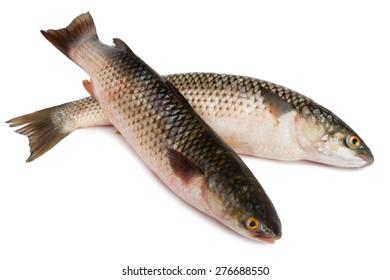Mullet: (41, 11, 285, 246), (7, 67, 375, 173)
